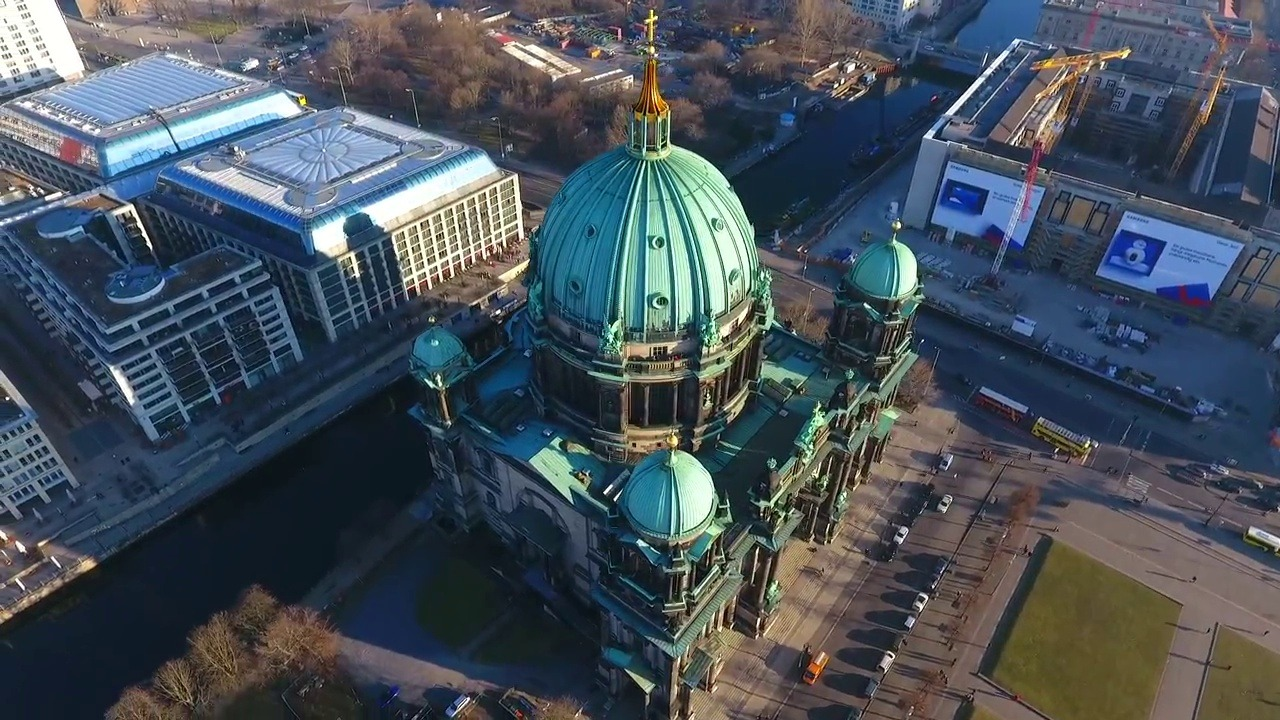bus: (972, 379, 1033, 427), (1031, 411, 1094, 455)
van: (799, 646, 833, 690)
